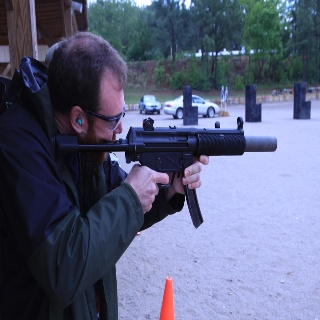rifle: (52, 116, 281, 227)
